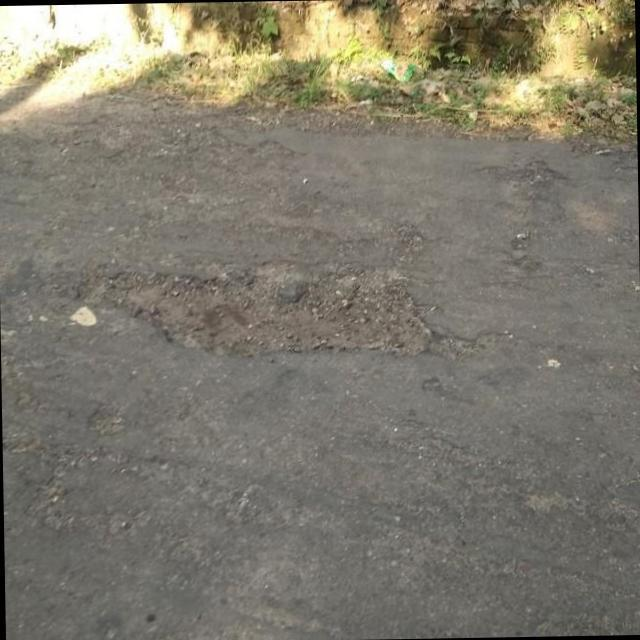Pothole: (77, 230, 482, 357)
